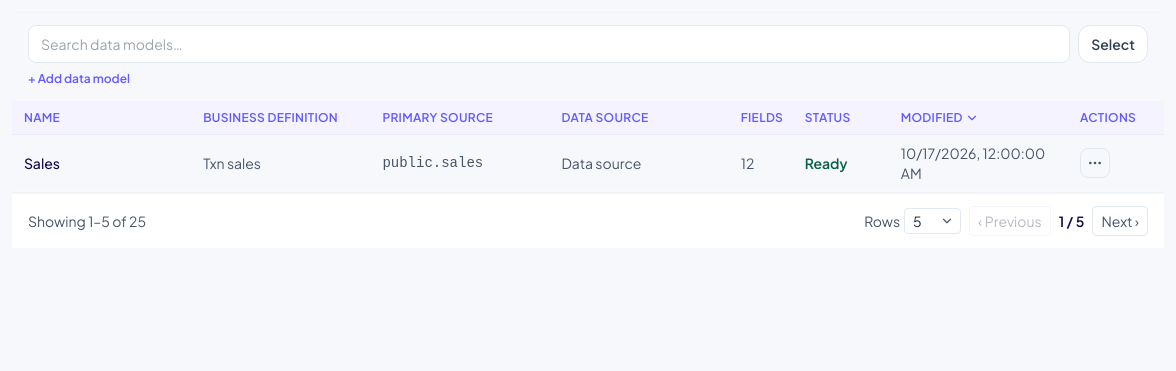
Test: SEM-2A matrix › SEM-2A-033 row action portal
Expected: the text "Sales" is shown, top-left (12, 134), bottom-right (191, 192)
Click the button named "Actions for Sales": [1095, 163] box top-left (1080, 148), bottom-right (1110, 178)
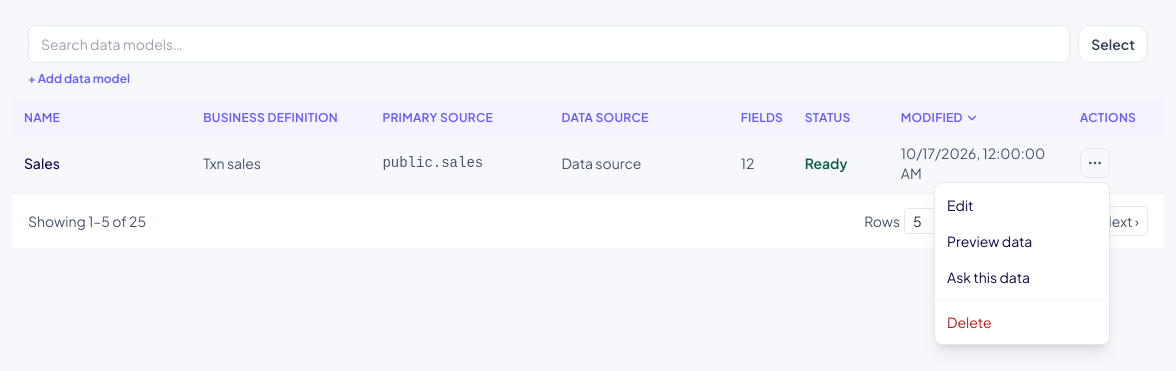
Now the menu is shown, box top-left (934, 182), bottom-right (1110, 345)
